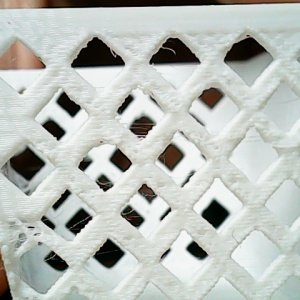3dpstringing: (119, 190, 160, 217), (61, 214, 96, 238), (121, 120, 160, 139), (240, 128, 272, 147), (104, 43, 128, 66), (10, 231, 27, 250), (227, 229, 245, 246), (157, 46, 183, 56), (91, 178, 116, 186), (44, 251, 59, 262), (161, 154, 169, 166)
3dpunderextrusion: (58, 280, 92, 299)
